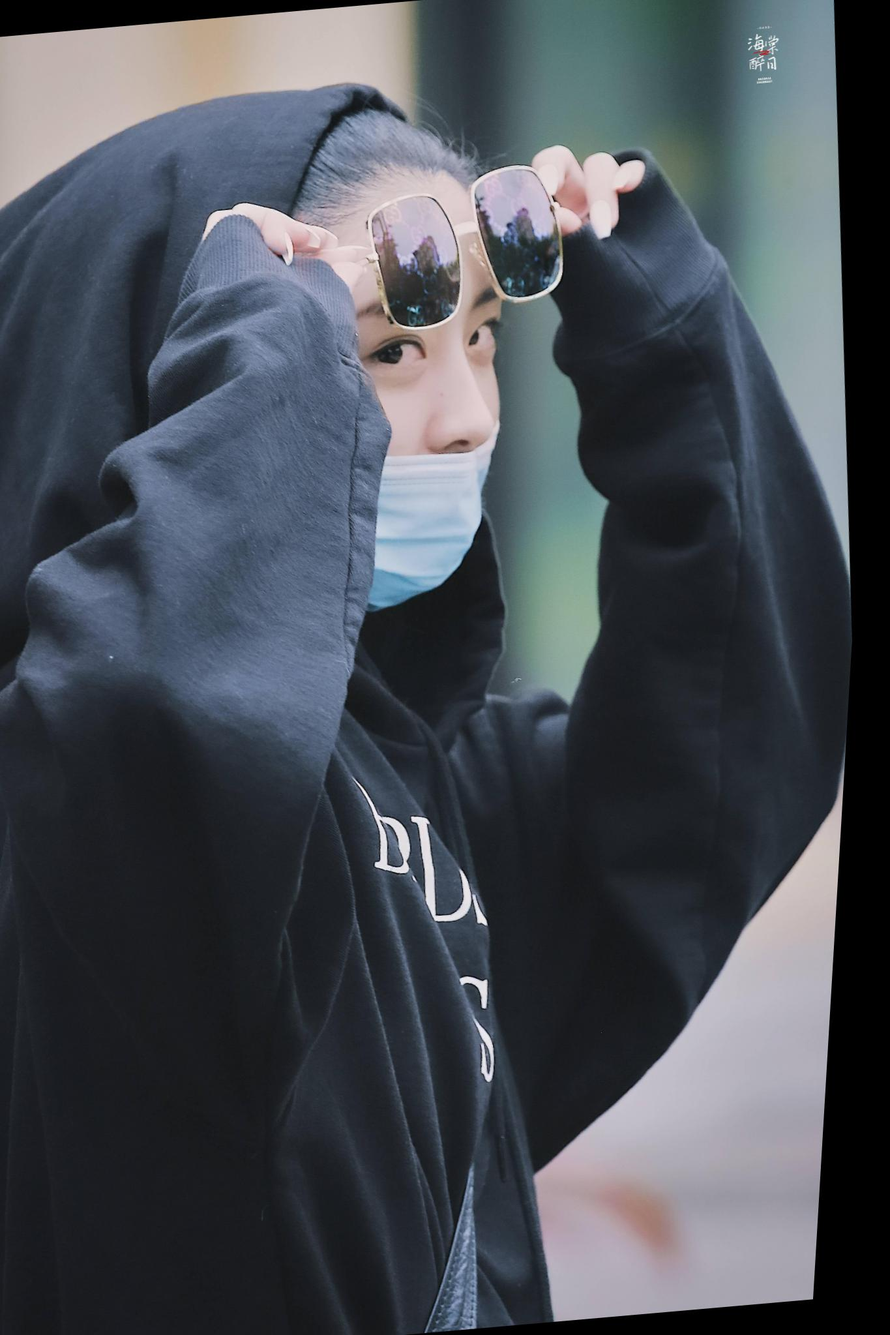WRONG: (340, 271, 532, 621)
